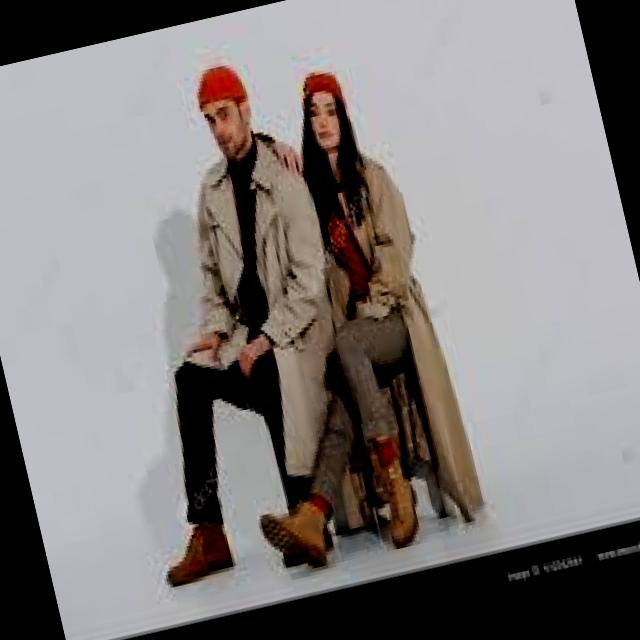hat: (197, 65, 247, 108), (303, 71, 347, 106)
lower-wear: (175, 352, 309, 523), (311, 310, 411, 505)
